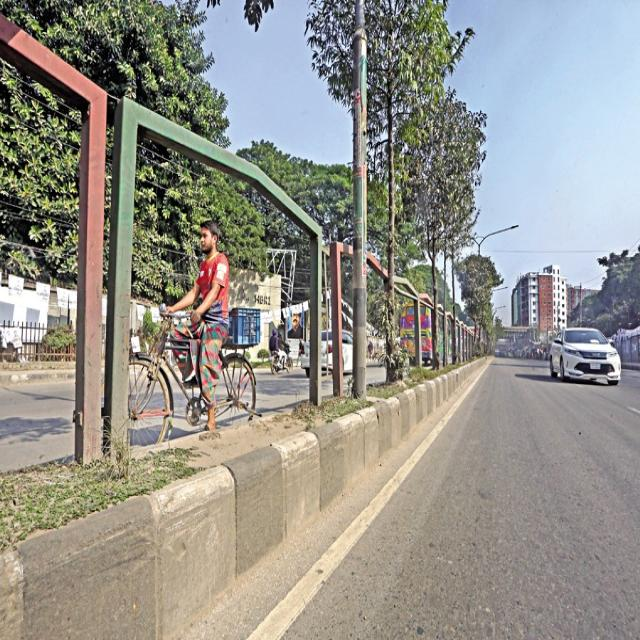Bicycle: (119, 298, 265, 449)
Car: (545, 322, 624, 386)
Road-divider: (0, 48, 492, 640)
